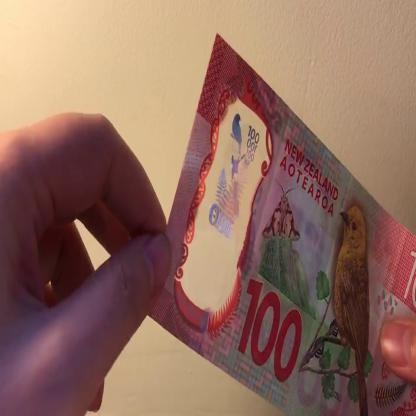100B: (206, 106, 260, 274)
